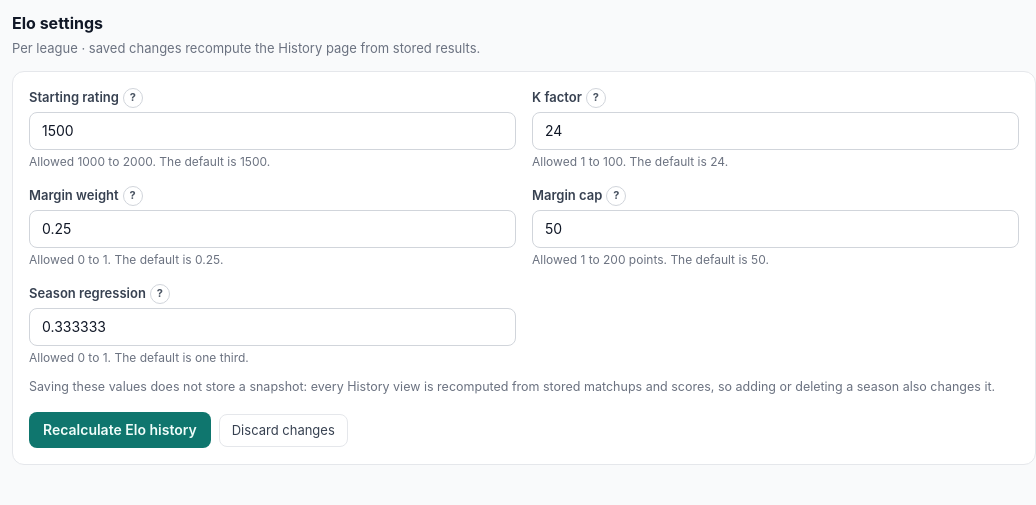
Scenario: EloSettingsSection › requires a value in every field before sending
The image size is (1036, 505).
Clear the field labelled "K factor": (776, 130) [532,112,1019,150]
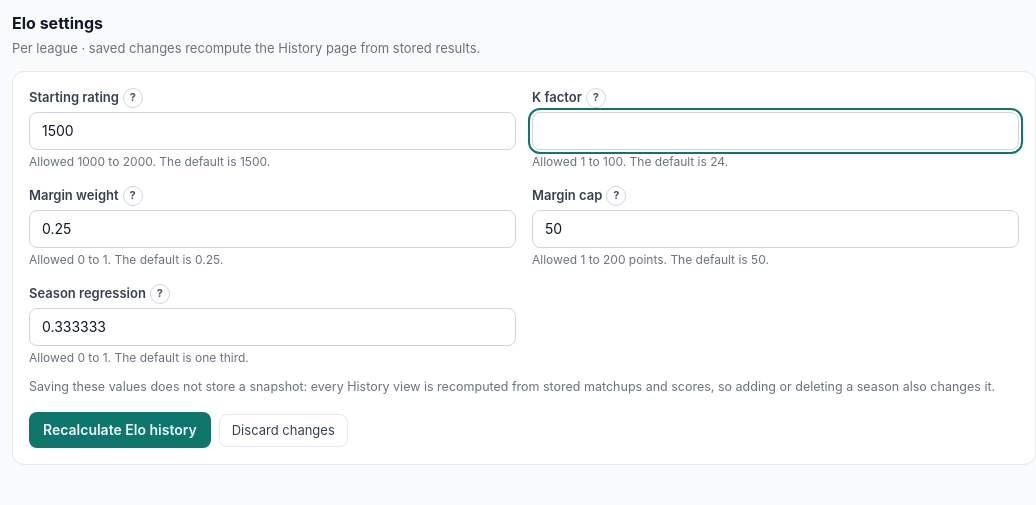
Click the button "Recalculate Elo history": (120, 430) [29,412,211,448]
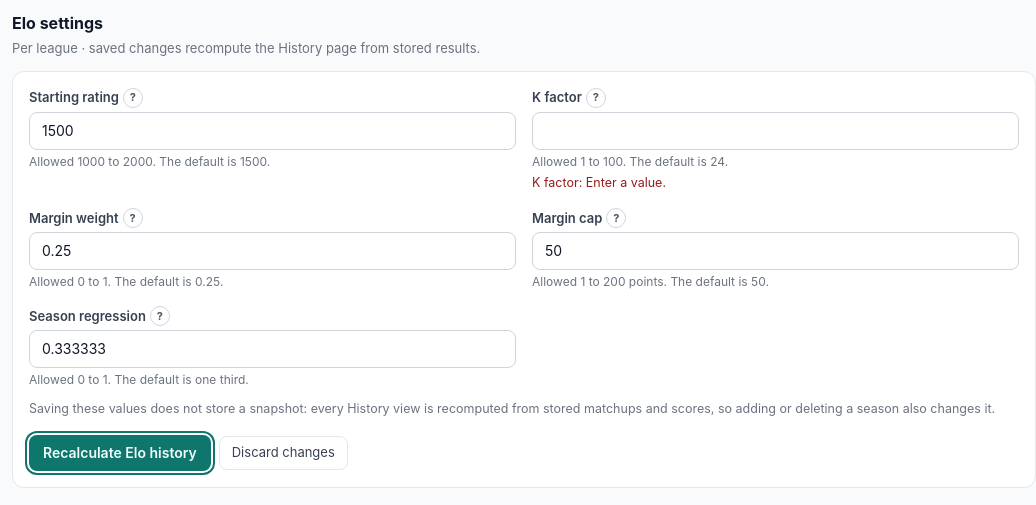
expect the message reads "K factor: Enter a value.": met, box [532,174,666,190]
